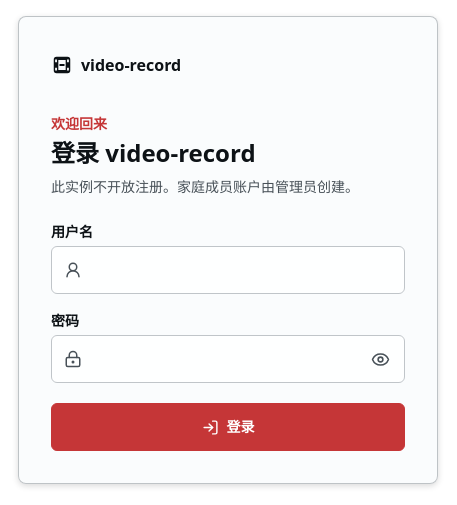
Test case: AuthGate › keeps keyboard focus on the password toggle for Enter and Space activation
Type "correct horse battery staple" into the password field labelled "密码" at (221, 359), box [92, 336, 350, 382]
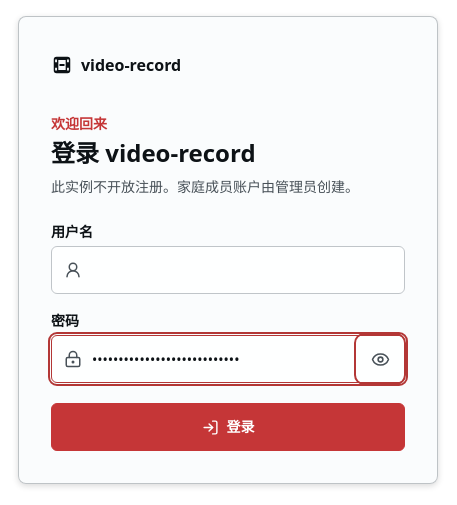
Press Enter
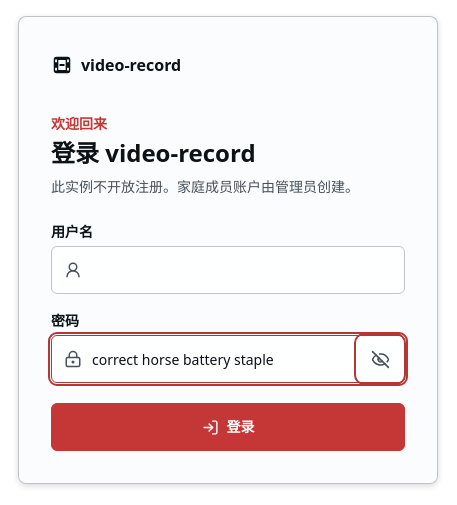
Result: the field labelled "密码" shows its text at [92, 336, 350, 382]
Type keys " "
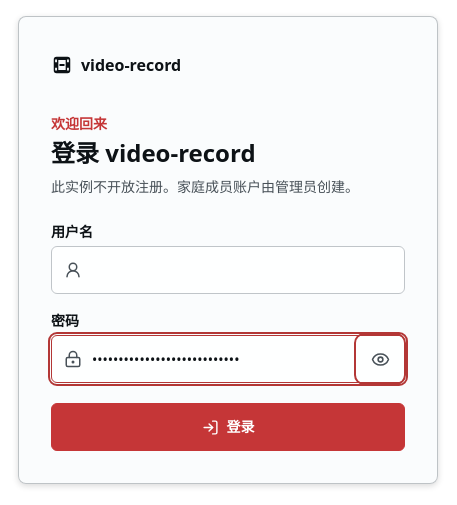
Result: the password field labelled "密码" hides its text at [92, 336, 350, 382]
